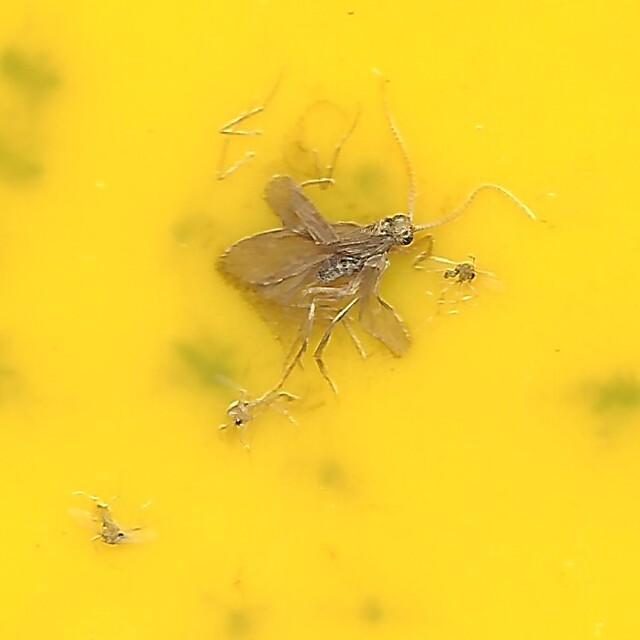Nematocera: (91, 494, 142, 552), (223, 391, 304, 427), (439, 254, 482, 298)
Trichoptera: (215, 88, 549, 414)
